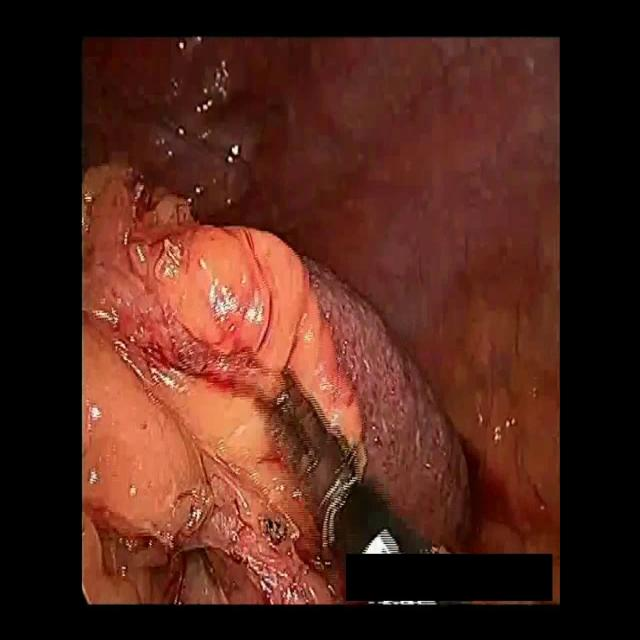surgical-area: (81, 36, 560, 605)
surgical-tool: (274, 373, 450, 555)
